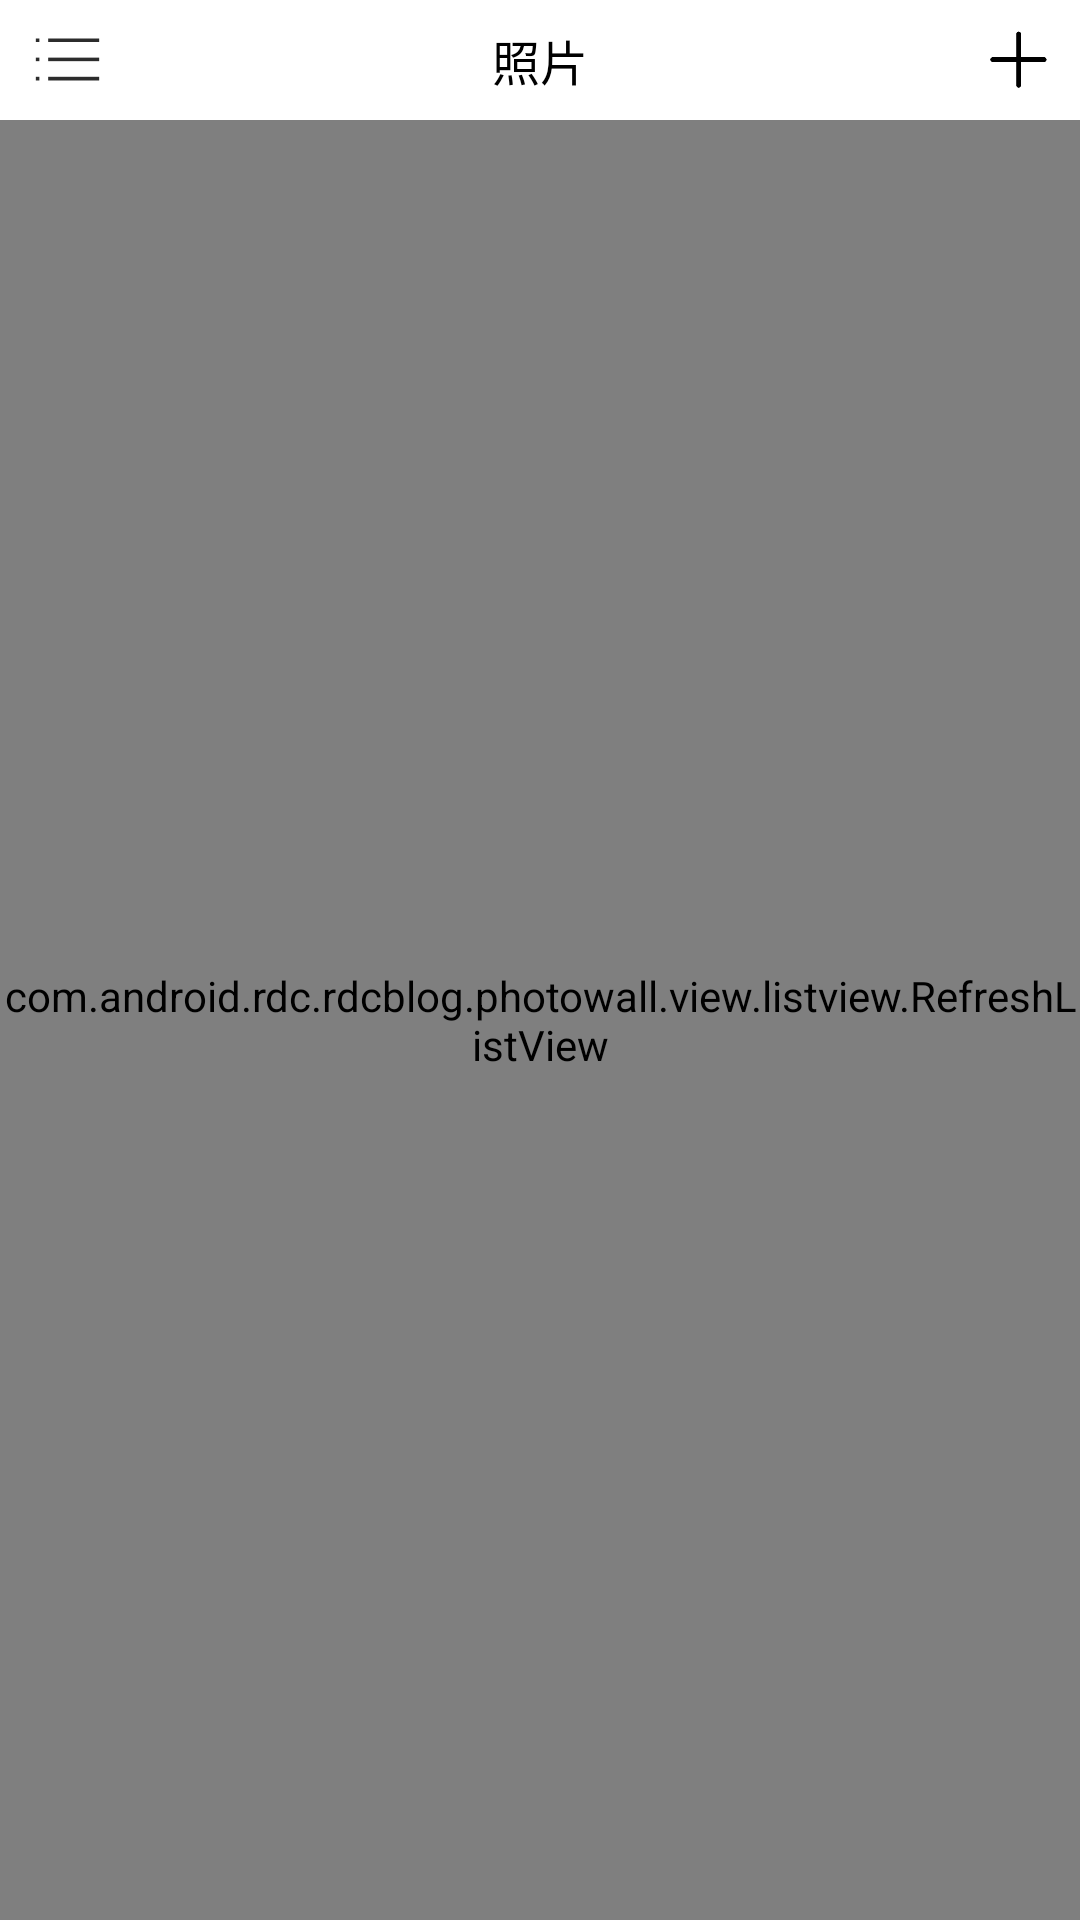

Where icons sit on this 1080*1920 app screen, as {"left": x1, "top": y1, "right": x2, "bottom": y2}:
bloglist menu: {"left": 35, "top": 38, "right": 100, "bottom": 81}
photo add: {"left": 990, "top": 31, "right": 1047, "bottom": 88}
